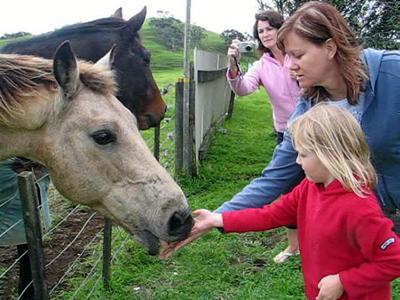person: (191, 106, 400, 300)
